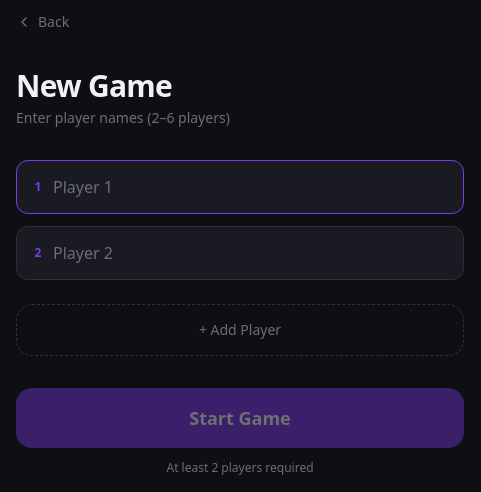
Test case: GameSetup › enables start button when both players have names
Type "Alice" into the field with placeholder "Player 1". click: (240, 187)
box: 16,160 -> 464,214
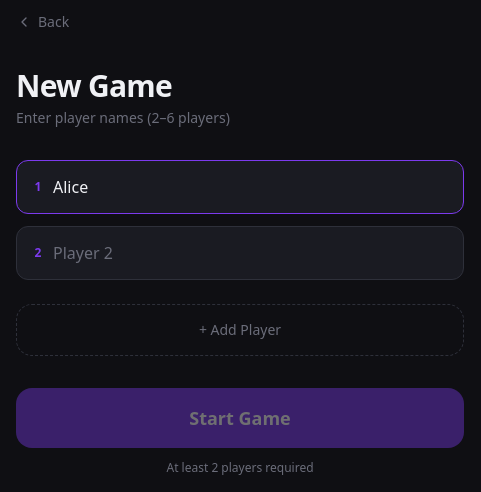
Type "Bob" into the field with placeholder "Player 2". click: (240, 253)
box: 16,226 -> 464,280
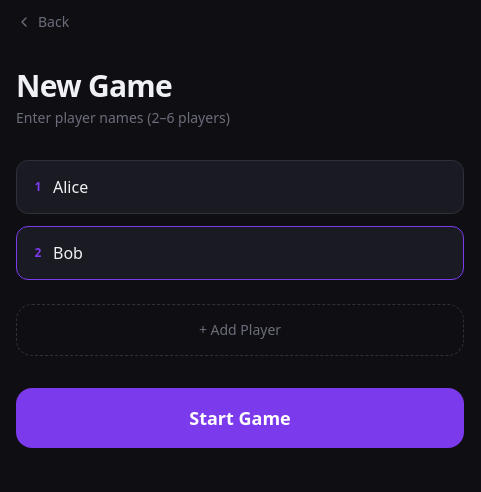
Check: the button "Start Game" is enabled, box 16,388 -> 464,448
